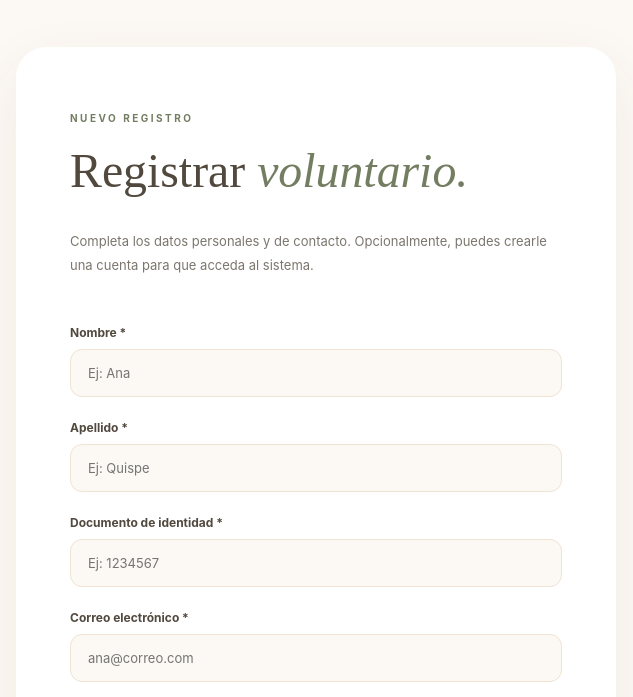
Test case: VoluntarioFormView › rechaza un correo con formato inválido (criterio 4)
This screenshot has width=633, height=697.
Type "Ana" into the field with id "nombre" at (316, 373), box [70,349,562,397]
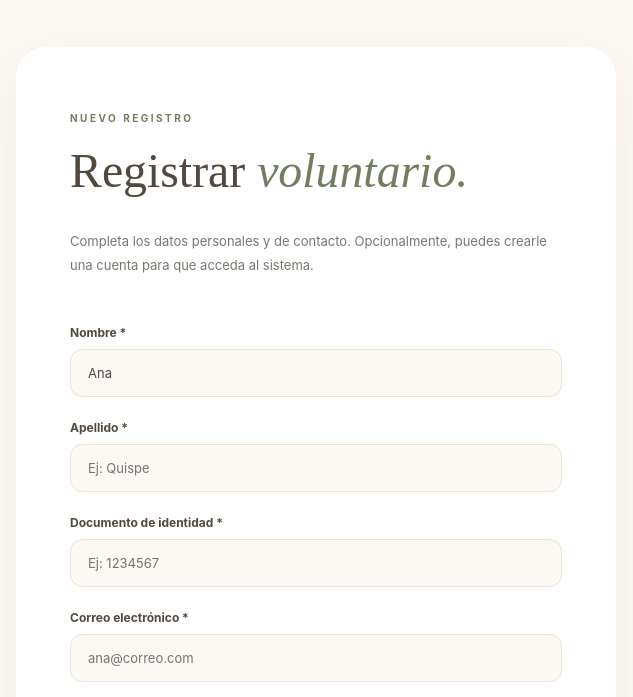
Type "Quispe" into the field labelled "Apellido *" at (316, 468), box [70,444,562,492]
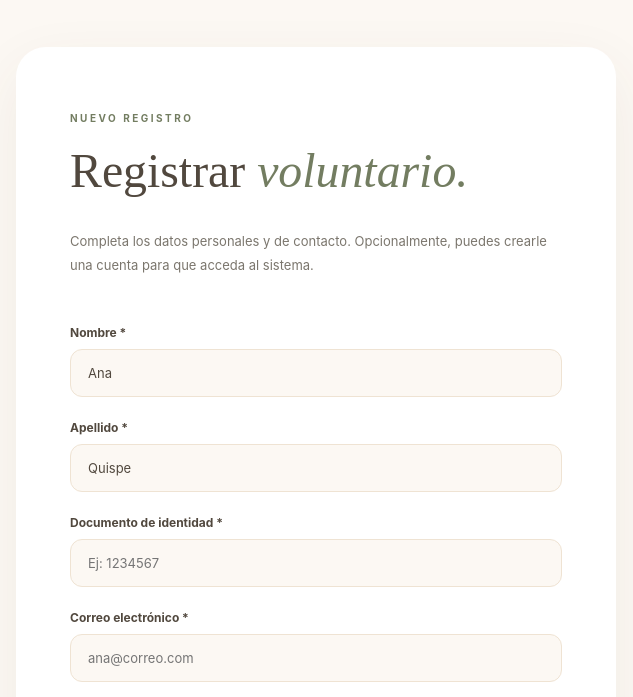
Type "123" into the field labelled "Documento de identidad *" at (316, 563), box [70,539,562,587]
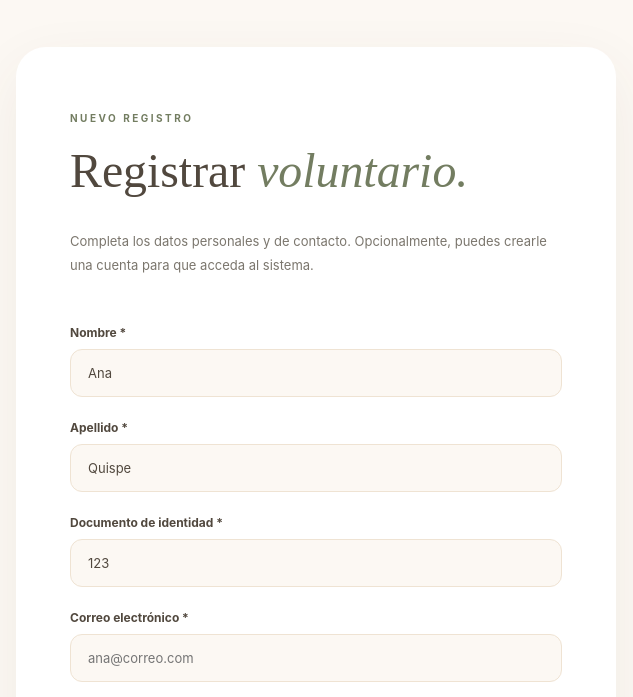
Type "no-es-correo" into the field labelled "Correo electrónico *" at (316, 658), box [70,634,562,682]
(page scrolled)
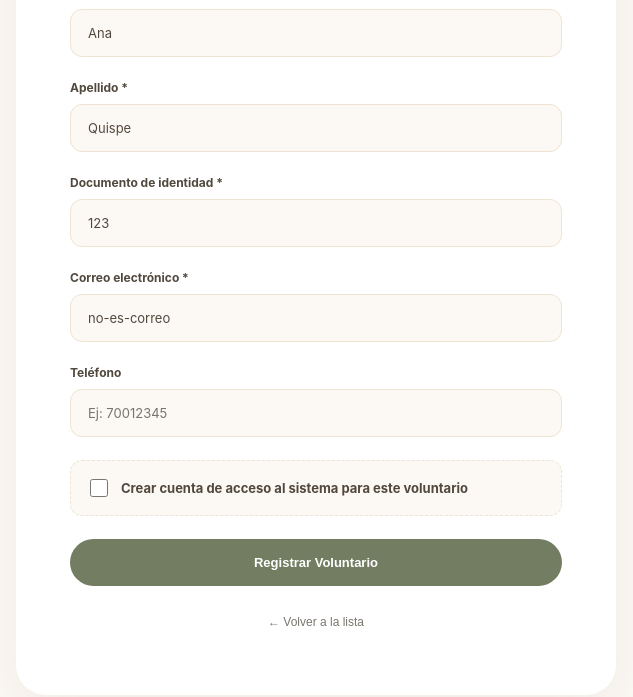
Type "70012345" into the field with id "telefono" at (316, 413), box [70,389,562,437]
(page scrolled)
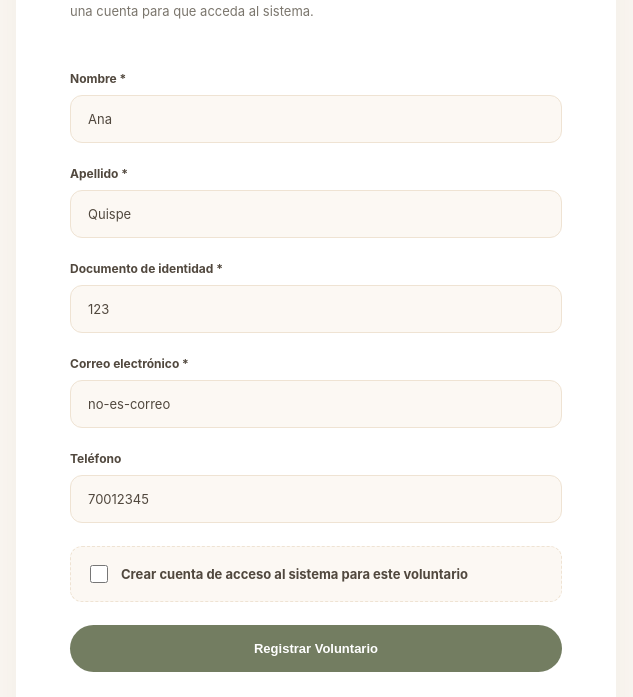
Submit the form
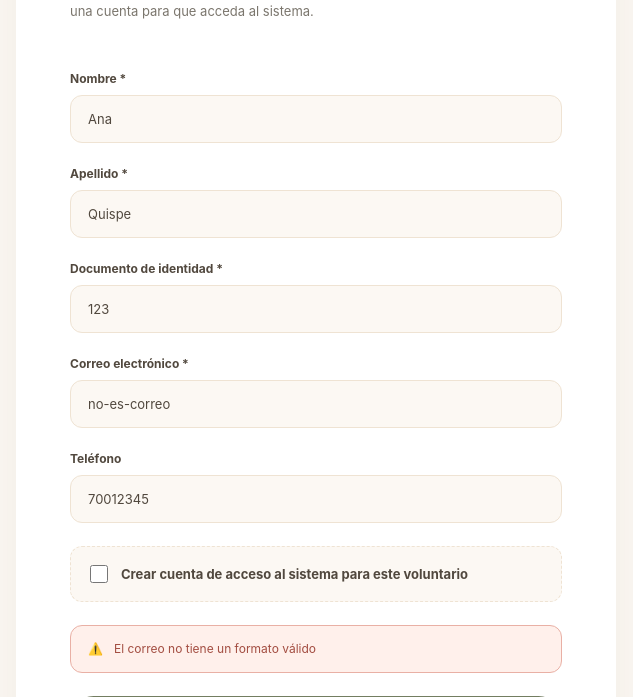
Check: the message "⚠️ El correo no tiene un formato válido" is shown, box [70,625,562,673]
